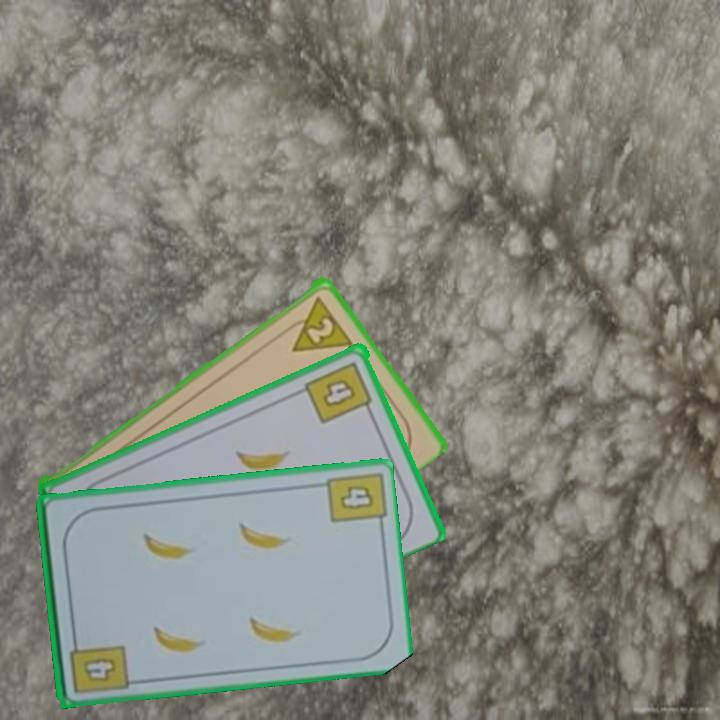2p: (278, 290, 355, 355)
4b: (301, 357, 376, 426), (65, 632, 130, 697), (337, 481, 377, 513)
